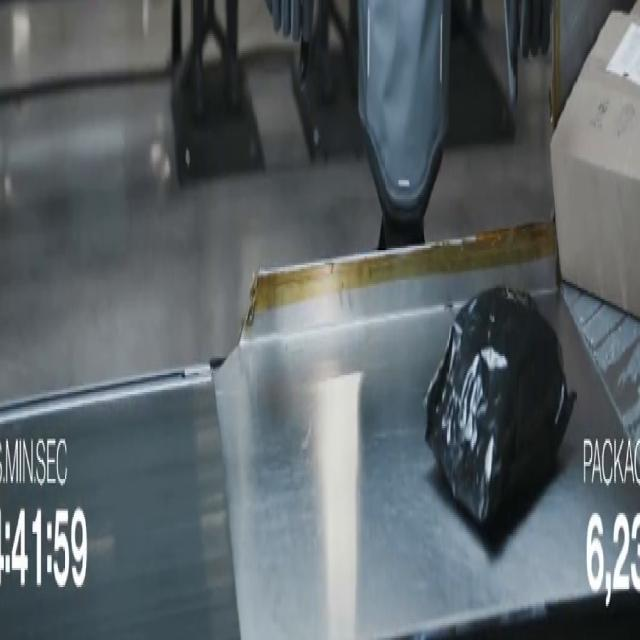package: (425, 289, 574, 525), (552, 13, 639, 315), (631, 0, 639, 14)
